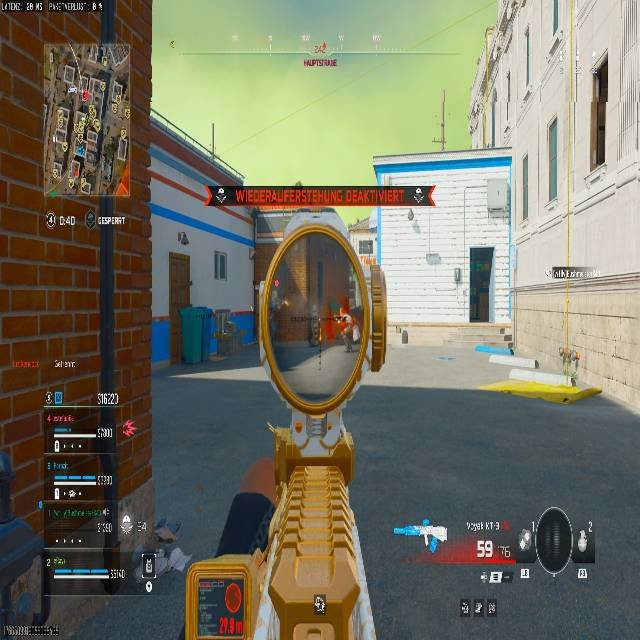player: (301, 45, 339, 70), (334, 308, 354, 352)
